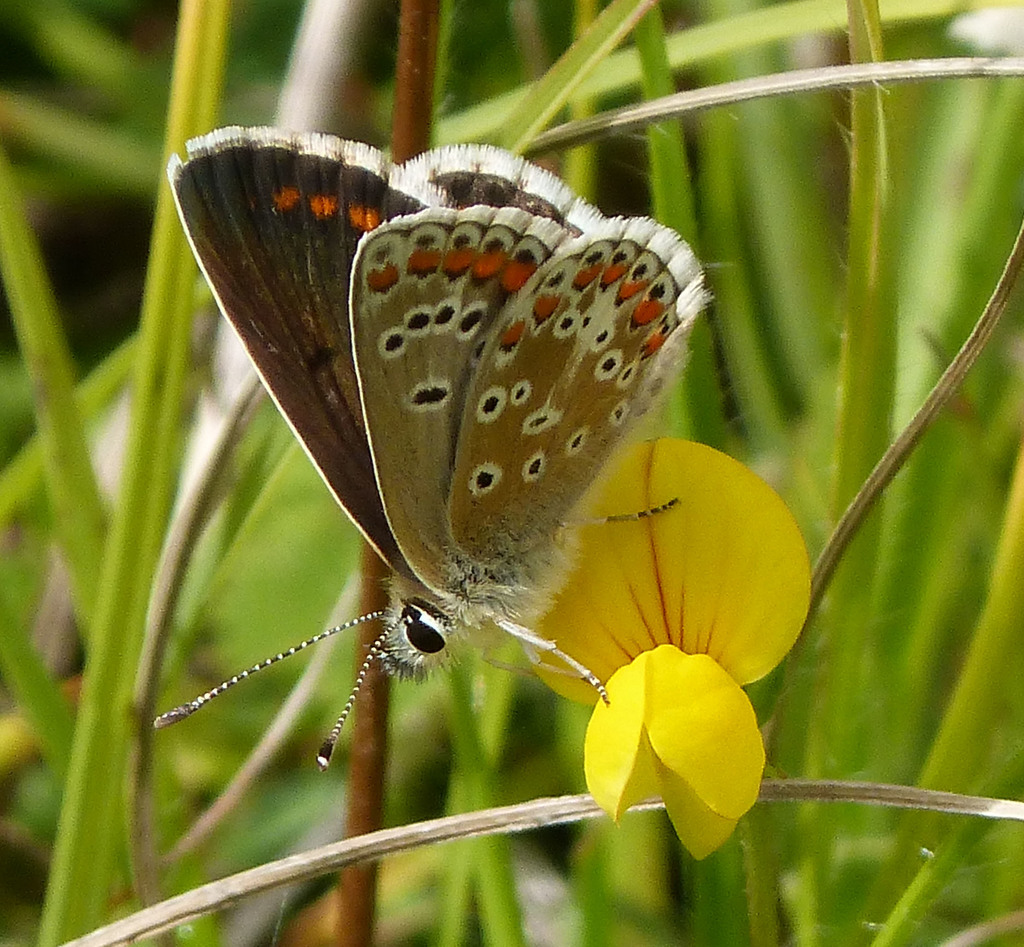Butterfly: (144, 80, 713, 733)
